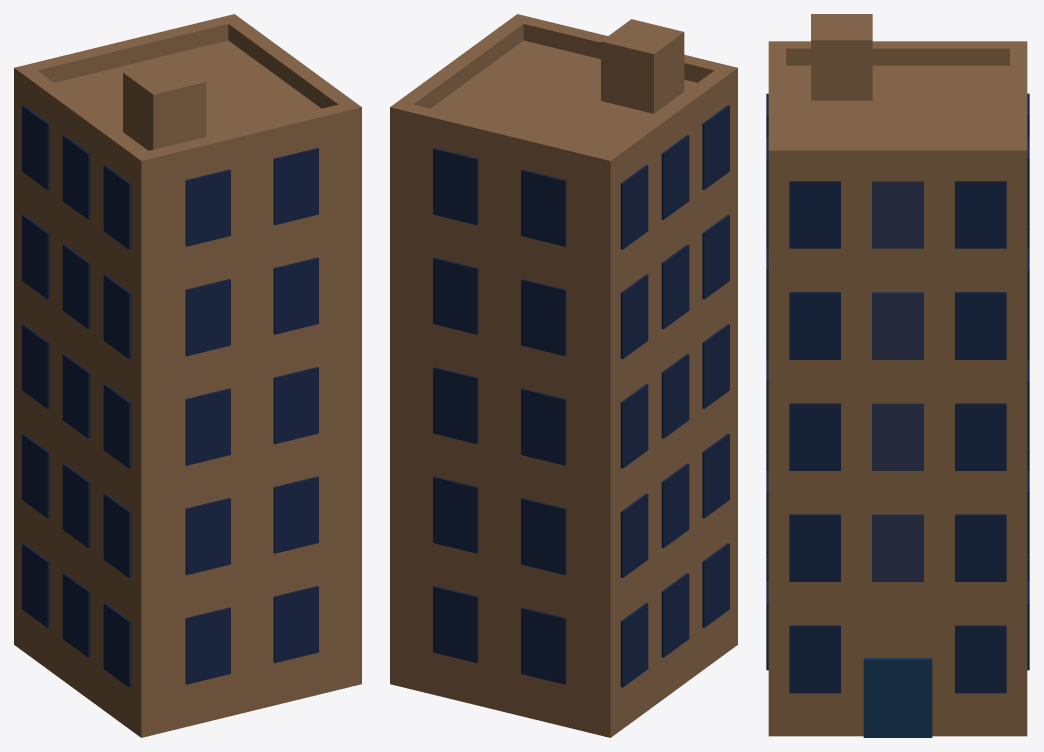
The model's file is 建物中_中レア_2.fbx.
The picture shows the model from 3 angles, left to right: view 1: azimuth 30°, elevation 25°; view 2: azimuth 150°, elevation 25°; view 3: azimuth 270°, elevation 25°; orthographic projection.
Visible parts, largest first — view 1: 平面; view 2: 平面; view 3: 平面.
Boxes of the visible parts, x1,y1,x2,y2 form: 平面: (14,14,361,737); 平面: (390,14,737,737); 平面: (766,14,1029,737).
Size of the model in its own units: 6.16 by 16.12 by 6.12.
